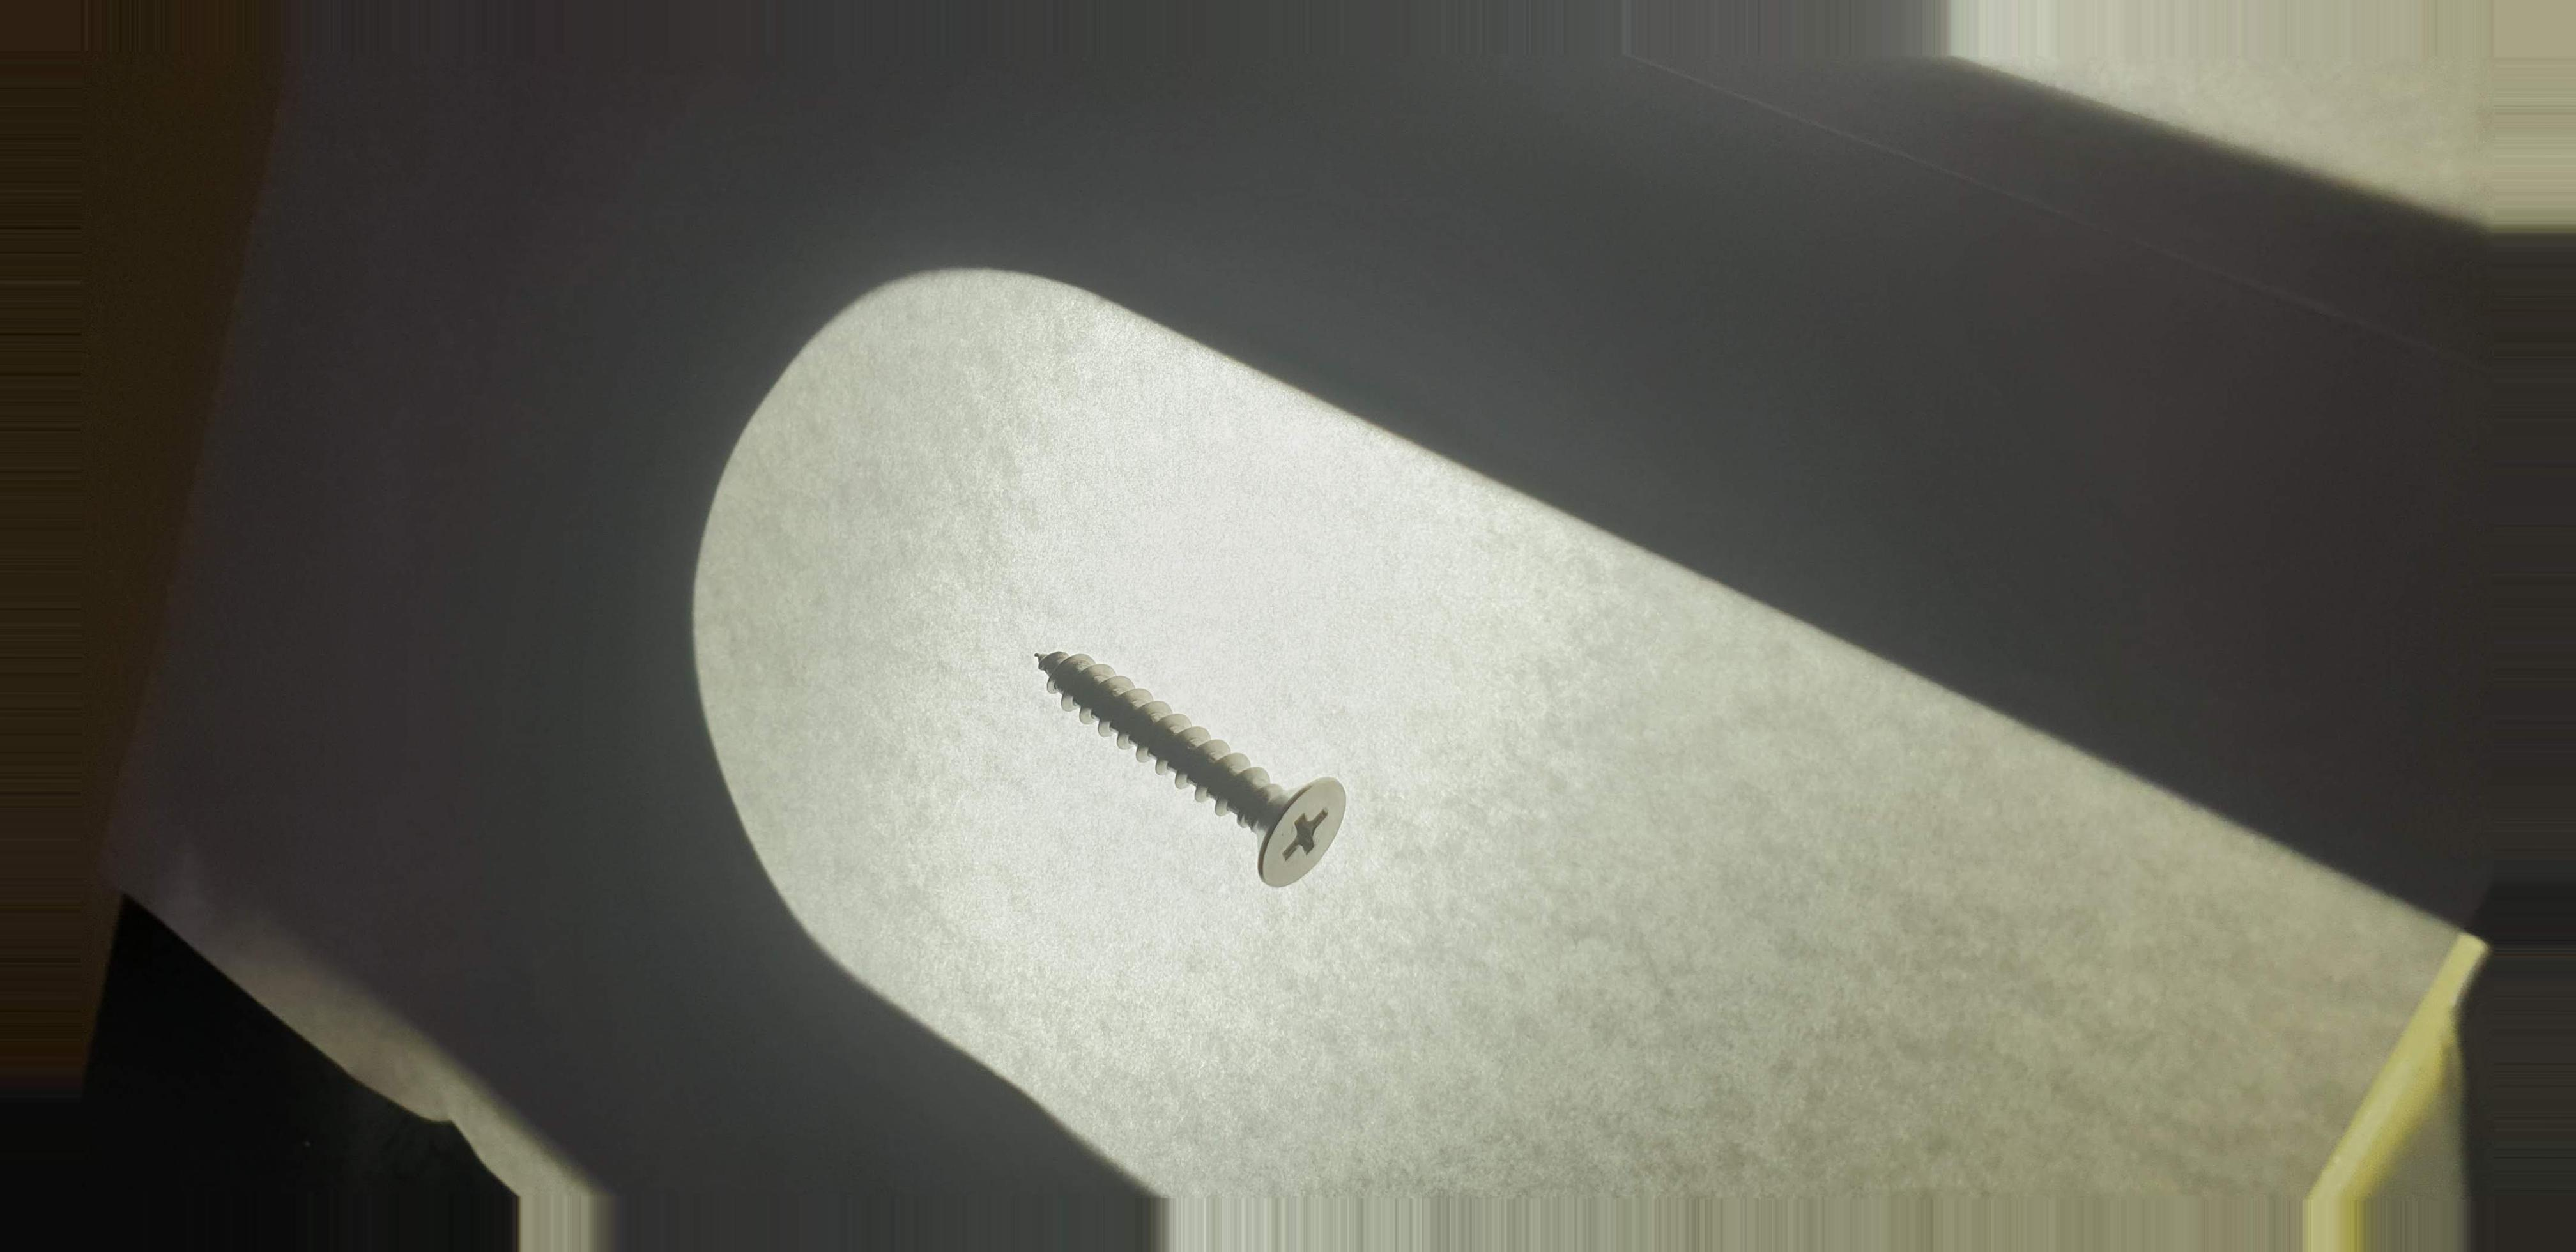S004: (976, 583, 1403, 961)
